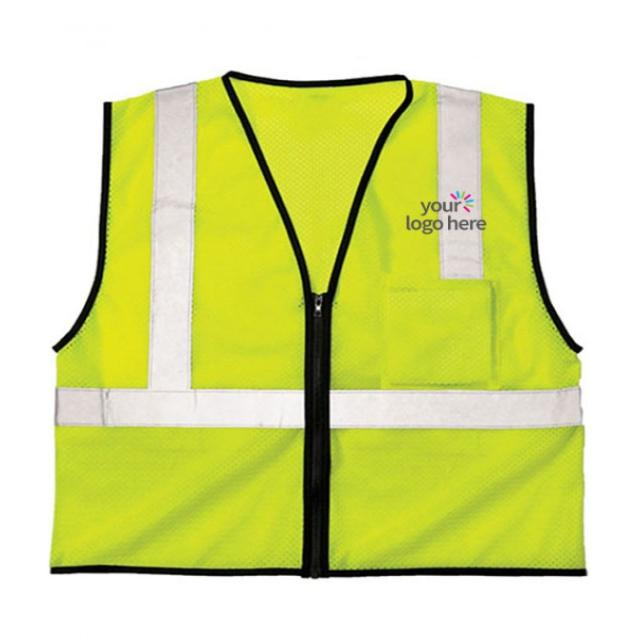safety_jacket: (47, 56, 592, 579)
